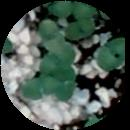Basil: (42, 48, 78, 73), (98, 38, 127, 69), (49, 0, 97, 18), (23, 78, 55, 98), (55, 67, 74, 100), (65, 19, 93, 41), (40, 22, 62, 47)
